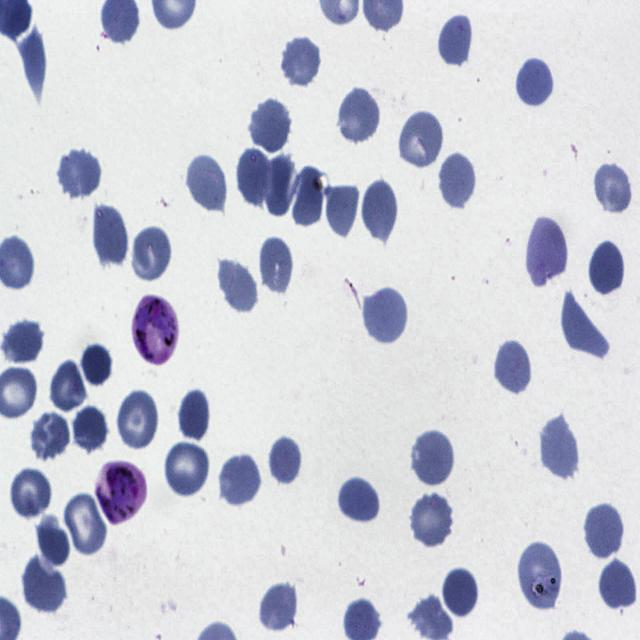red blood cell: (516, 540, 565, 611), (524, 212, 568, 288), (562, 290, 610, 359), (64, 490, 109, 559), (20, 554, 68, 617), (538, 412, 580, 482), (398, 110, 445, 172), (361, 284, 408, 346), (408, 490, 456, 549), (117, 388, 160, 452), (337, 85, 382, 146), (360, 176, 400, 244), (90, 201, 129, 270), (163, 442, 209, 500), (411, 428, 456, 487), (185, 153, 228, 214), (216, 256, 260, 315), (236, 145, 276, 209), (582, 502, 625, 560), (438, 150, 478, 212), (130, 225, 173, 282), (58, 147, 103, 201), (493, 338, 534, 397), (16, 23, 46, 103), (281, 33, 323, 90), (249, 97, 291, 154), (592, 160, 634, 217), (218, 454, 262, 508), (28, 410, 72, 464), (258, 234, 296, 296), (336, 473, 382, 524), (10, 466, 53, 520), (261, 153, 297, 217), (323, 180, 360, 242), (589, 238, 627, 297), (596, 555, 634, 614), (290, 164, 326, 226), (513, 53, 554, 107), (50, 360, 90, 414), (442, 564, 480, 620), (438, 11, 474, 70), (259, 580, 299, 633), (2, 318, 45, 366), (71, 404, 109, 456), (268, 434, 303, 488), (32, 519, 70, 567), (177, 386, 209, 442), (80, 341, 114, 390)
trophozoite: (132, 293, 180, 367), (94, 459, 146, 526)
